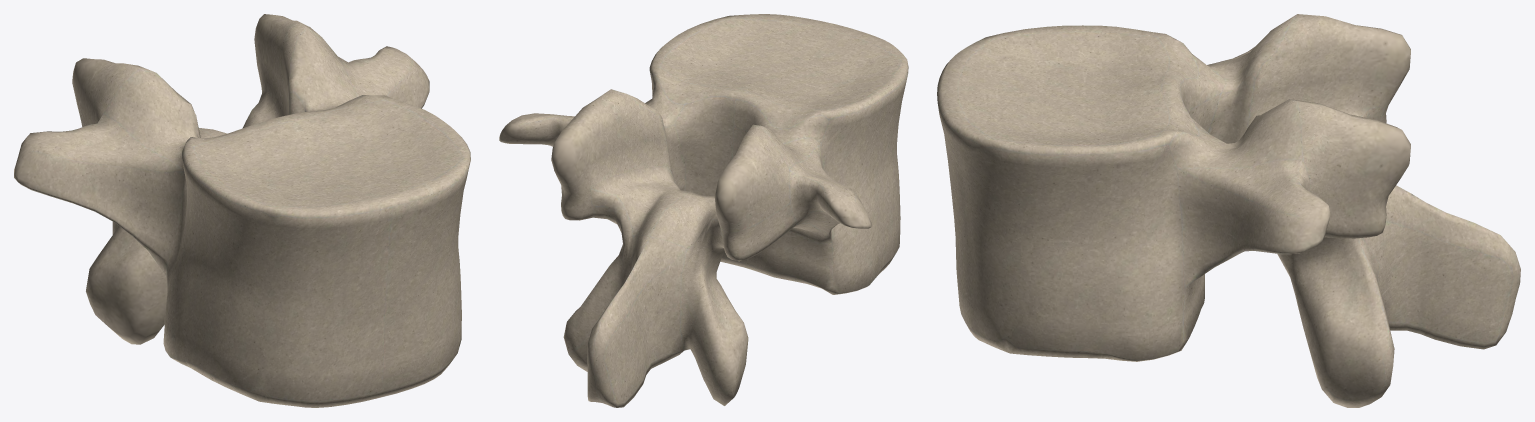
The model's file is lumbar.glb.
3 views of the same model, side by side, from view 1: azimuth 30°, elevation 25°; view 2: azimuth 150°, elevation 25°; view 3: azimuth 270°, elevation 25° (orthographic). The views are drawn at different scales.
Visible parts, largest first — view 1: lumbar_vertebra; view 2: lumbar_vertebra; view 3: lumbar_vertebra.
Part boxes in pixels (x1=…): lumbar_vertebra: x1=14, y1=14, x2=470, y2=407; lumbar_vertebra: x1=499, y1=14, x2=908, y2=407; lumbar_vertebra: x1=937, y1=14, x2=1520, y2=407.
Bounding box in the file's own units: 3.03 × 2.08 × 3.5.
Materials: 1 (1 with a texture image).
